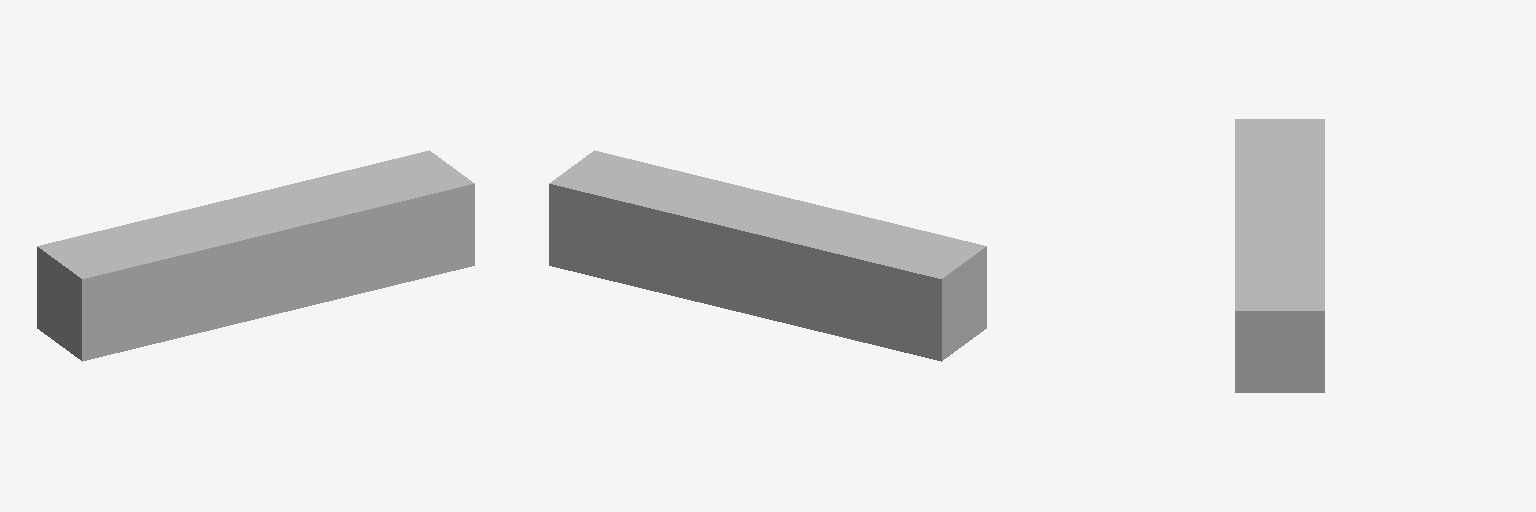
The model's file is izquierda.obj.
3 views of the same model, side by side, from view 1: azimuth 30°, elevation 25°; view 2: azimuth 150°, elevation 25°; view 3: azimuth 270°, elevation 25° (orthographic).
Visible parts, largest first — view 1: izquierda1; view 2: izquierda1; view 3: izquierda1.
Part boxes in pixels (x1,y1,x2,y2): izquierda1: (37,150,474,361); izquierda1: (549,150,986,361); izquierda1: (1235,119,1324,392).
Bounding box in the file's own units: 12.08 × 2.42 × 2.42.